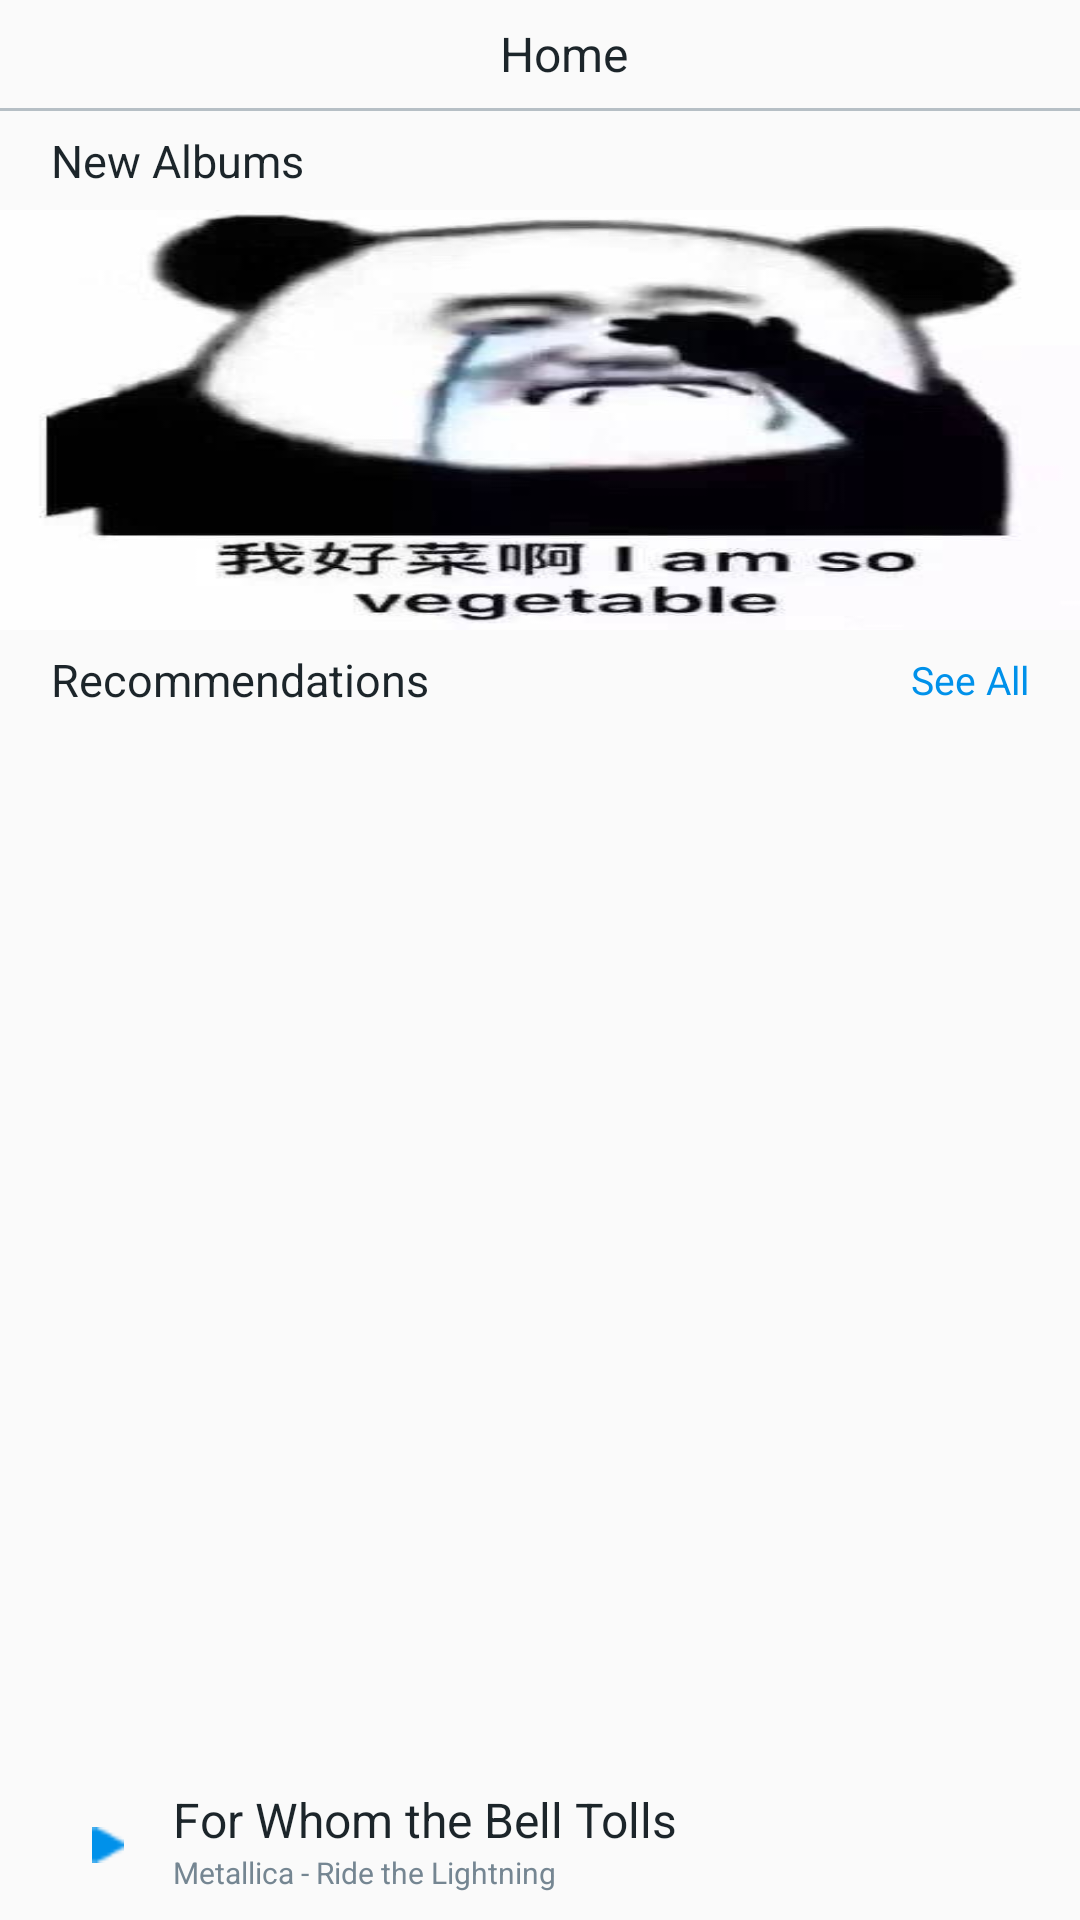

Locate icon controls on the screen. Image size 1080x1920, boxes as (x1, y1, x2, y2).
playblue: (92, 1827, 124, 1863)
